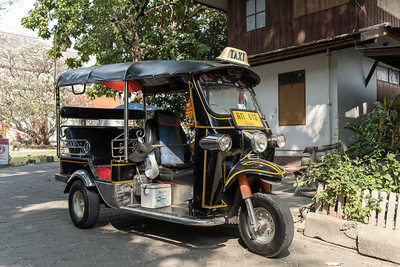threewheel: (53, 46, 295, 259)
